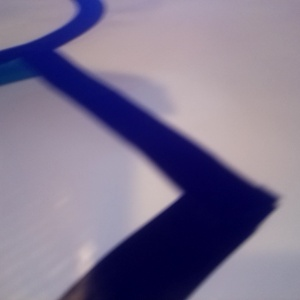bottom_right: (222, 14, 300, 52)
top_right: (185, 83, 300, 126)
